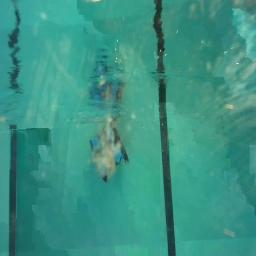front: (90, 128, 128, 184)
